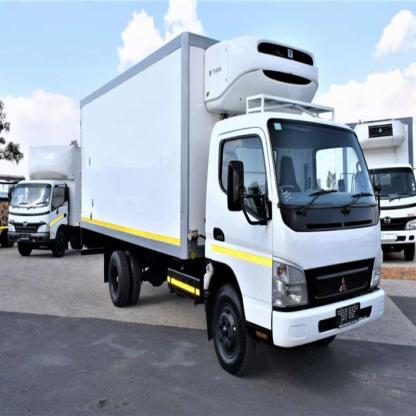truck: (78, 28, 385, 379), (11, 138, 85, 259)
